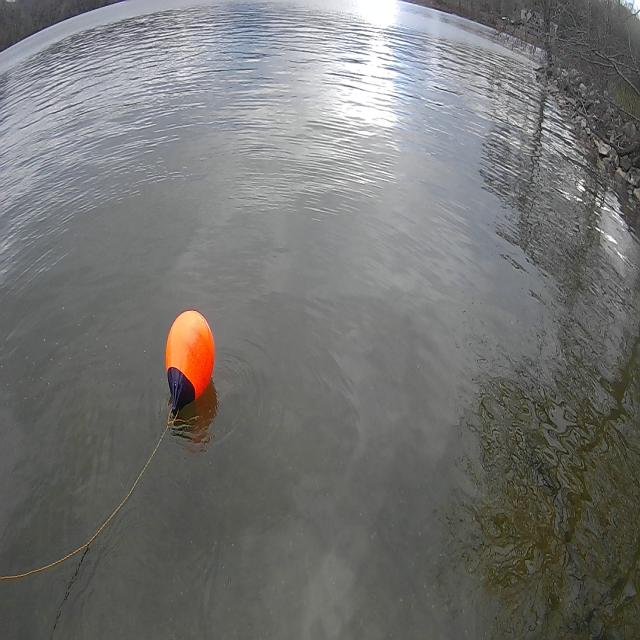Buoy: (164, 307, 217, 405)
